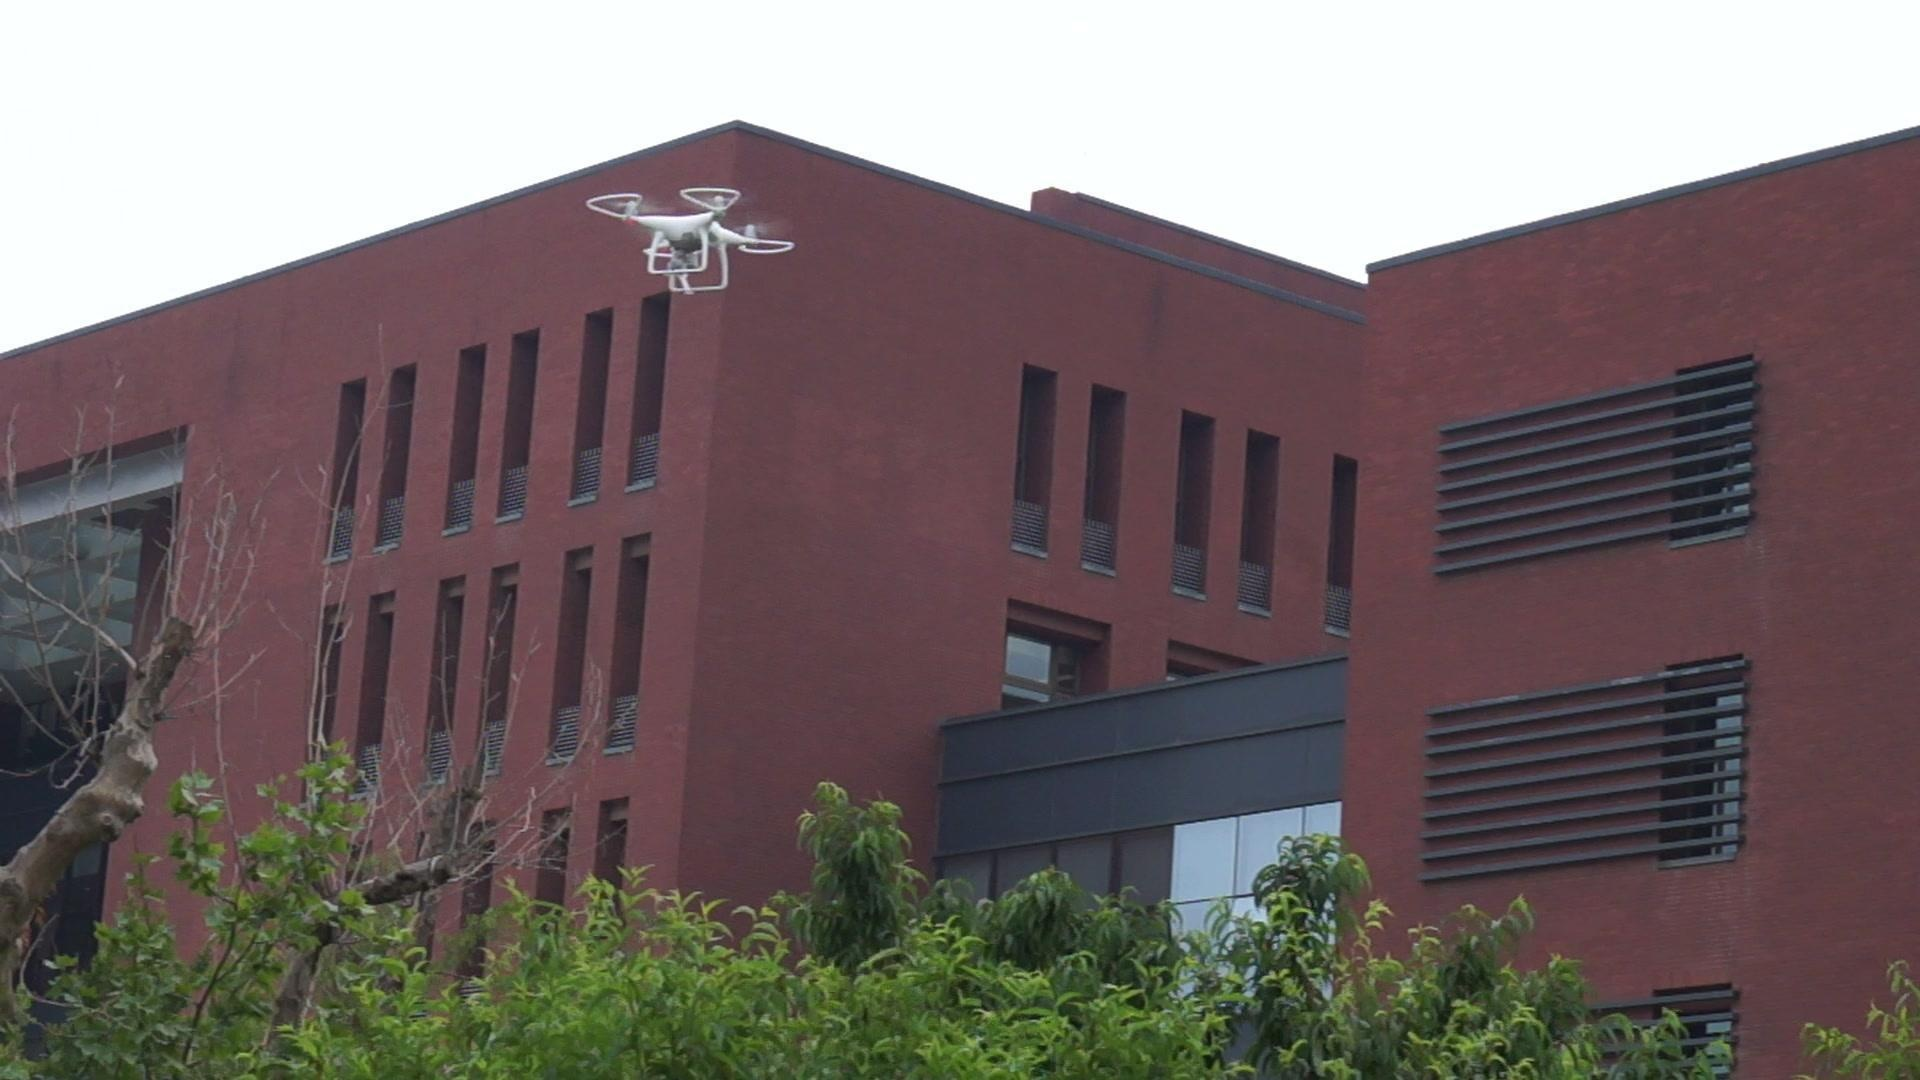UAV: (585, 187, 796, 297)
